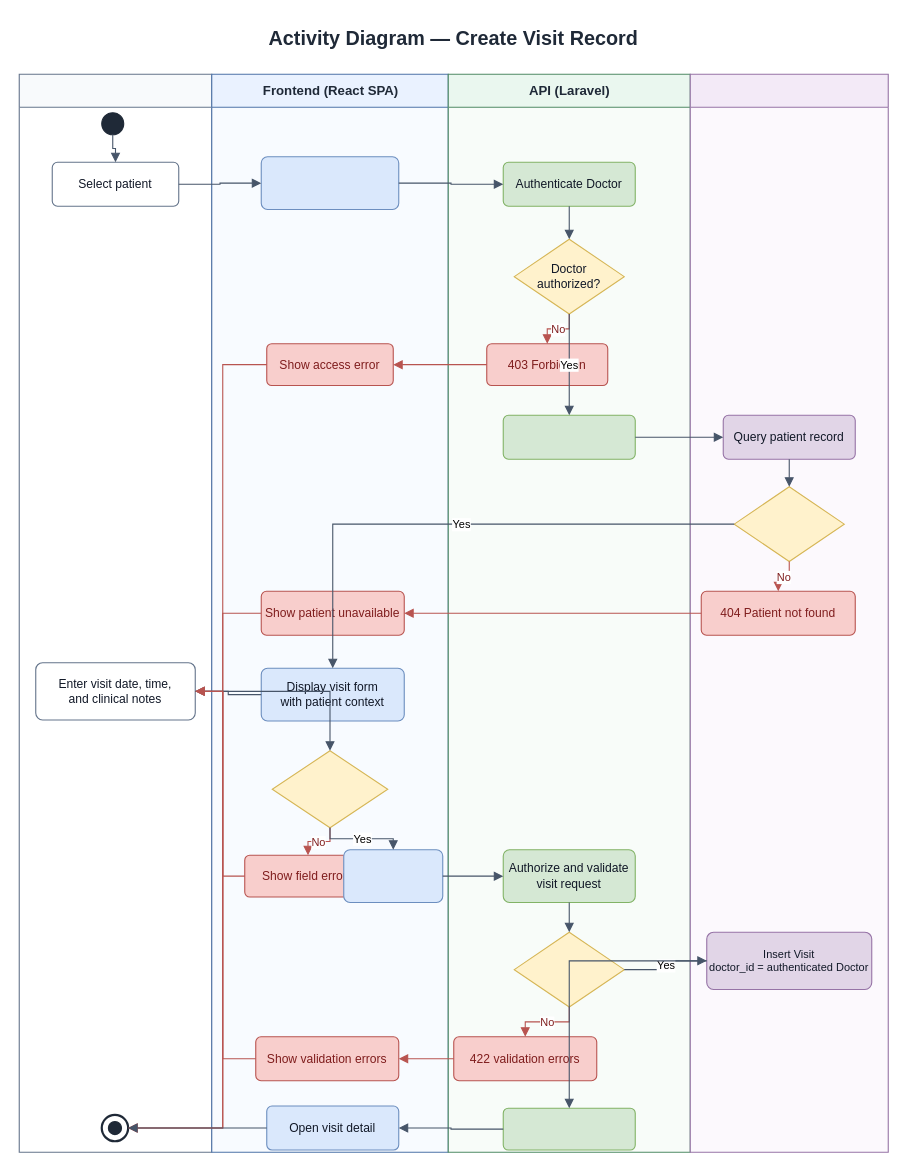
The diagram is 908 pixels wide and 1172 high, and some of its shapes have lost their labels. The shapes that lost their labels are listed below. From the top down, each one's box as (x1, y1, x2, y2) in pixels, then its label:
(260, 156, 399, 210): GET /api/patients/{id} with Bearer token
(502, 414, 635, 459): Find active patient
(733, 486, 844, 562): Patient exists and is active?
(18, 73, 212, 1152): Doctor
(689, 73, 888, 1152): Database
(271, 750, 388, 828): Client-side input valid?
(343, 849, 443, 903): POST /api/patients/{id}/visits
(513, 931, 624, 1007): Validation passes?
(502, 1107, 635, 1150): 201 VisitResource
